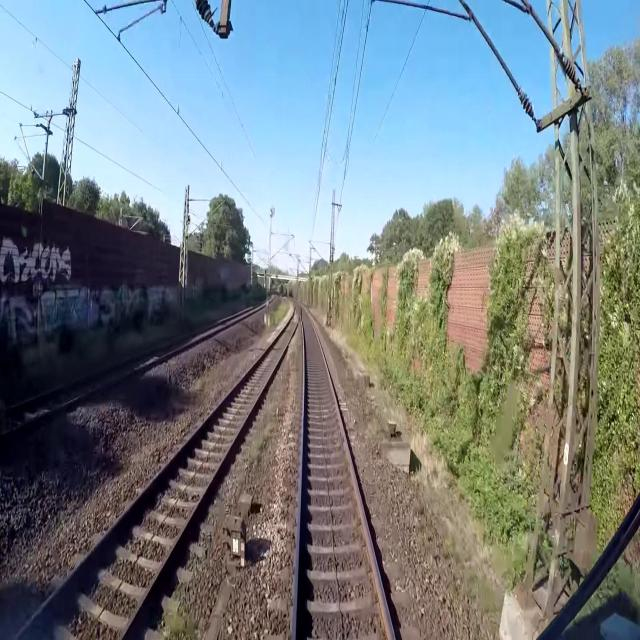rail-track: (19, 307, 299, 639), (297, 309, 390, 639), (0, 316, 240, 433)
